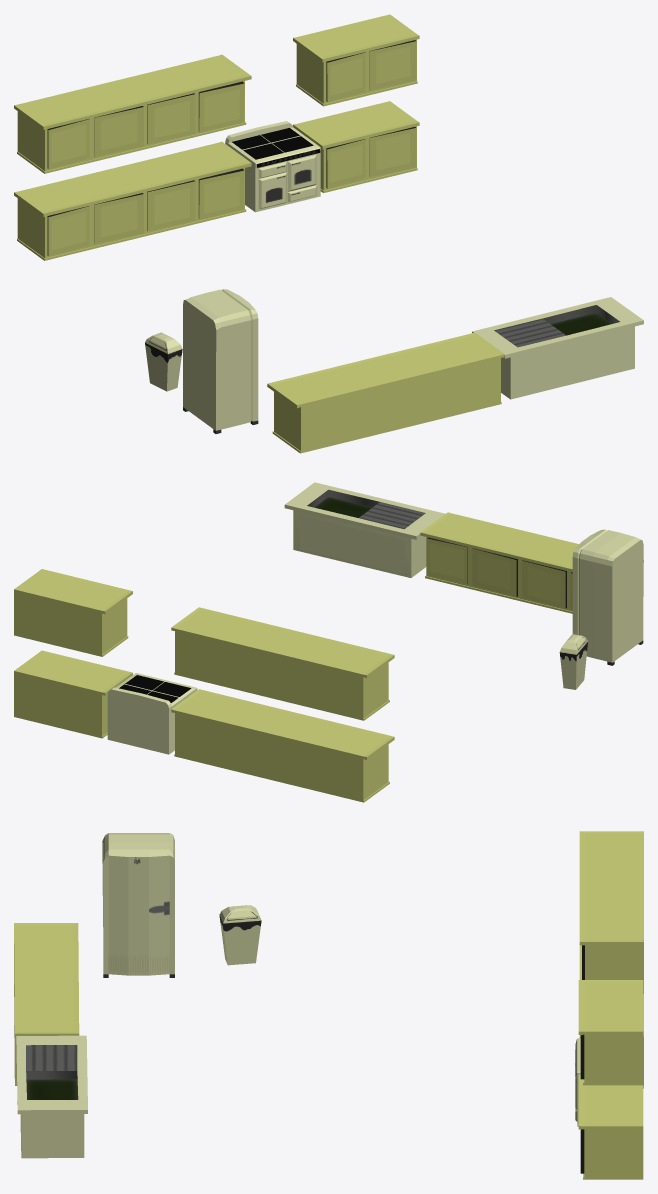
The model's file is kitchen furniture mk2.fbx.
3 renders of one model, top to bottom at view 1: azimuth 30°, elevation 25°; view 2: azimuth 150°, elevation 25°; view 3: azimuth 270°, elevation 25°, orthographic. The views are drawn at different scales.
Parts seen in each view (by area): view 1: cupboards bottom4.001, cupboards top4, cupboards bottom4, Sink, Cube.032, cupboards top2, cupboards bottom2, oven, Cube; view 2: cupboards top4, cupboards bottom4, cupboards bottom4.001, Sink, Cube.032, cupboards top2, cupboards bottom2, oven, Cube; view 3: Cube.032, cupboards top4, Sink, cupboards bottom4.001, cupboards top2, cupboards bottom2, Cube.
Boxes of the visible parts, x1=… form: cupboards bottom4.001: x1=267, y1=332, x2=504, y2=453; cupboards top4: x1=14, y1=54, x2=251, y2=173; cupboards bottom4: x1=14, y1=141, x2=251, y2=260; Sink: x1=472, y1=297, x2=643, y2=399; Cube.032: x1=183, y1=289, x2=258, y2=433; cupboards top2: x1=293, y1=14, x2=419, y2=106; cupboards bottom2: x1=293, y1=101, x2=419, y2=192; oven: x1=225, y1=121, x2=320, y2=212; Cube: x1=145, y1=332, x2=182, y2=391; cupboards top4: x1=171, y1=607, x2=394, y2=720; cupboards bottom4: x1=171, y1=689, x2=394, y2=802; cupboards bottom4.001: x1=420, y1=512, x2=643, y2=613; Sink: x1=284, y1=482, x2=445, y2=577; Cube.032: x1=572, y1=529, x2=643, y2=665; cupboards top2: x1=14, y1=569, x2=132, y2=656; cupboards bottom2: x1=14, y1=650, x2=132, y2=738; oven: x1=107, y1=673, x2=197, y2=754; Cube: x1=559, y1=634, x2=587, y2=689; Cube.032: x1=102, y1=833, x2=174, y2=977; cupboards top4: x1=579, y1=831, x2=643, y2=993; Sink: x1=16, y1=1035, x2=87, y2=1158; cupboards bottom4.001: x1=14, y1=923, x2=79, y2=1085; cupboards top2: x1=578, y1=980, x2=643, y2=1085; cupboards bottom2: x1=578, y1=1074, x2=643, y2=1179; Cube: x1=219, y1=905, x2=261, y2=965.
Size of the model in its own units: 926 by 286 by 1098.
